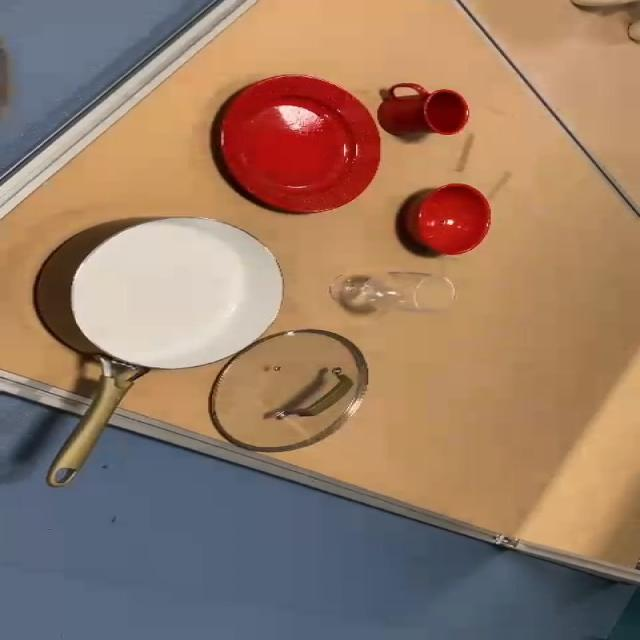Bowl: (410, 179, 490, 258)
Glass: (326, 269, 456, 320)
Plate: (212, 75, 376, 221)
cup: (385, 85, 467, 145)
pot: (38, 211, 278, 488)
